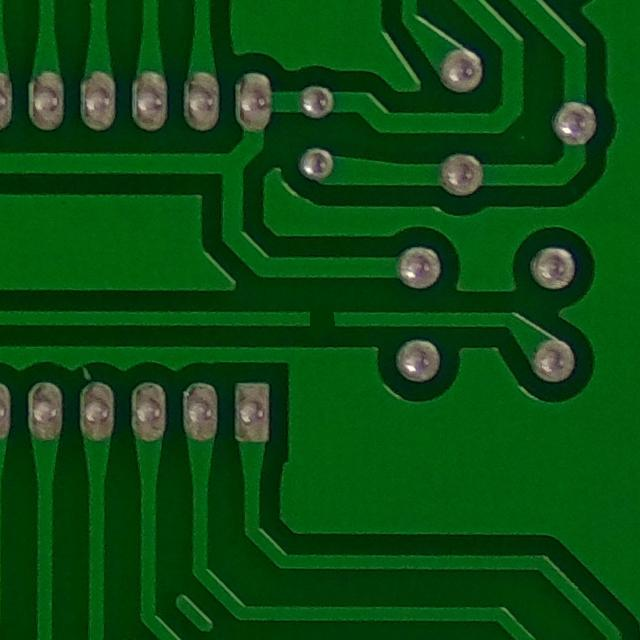open_circuit: (291, 298, 349, 343)
